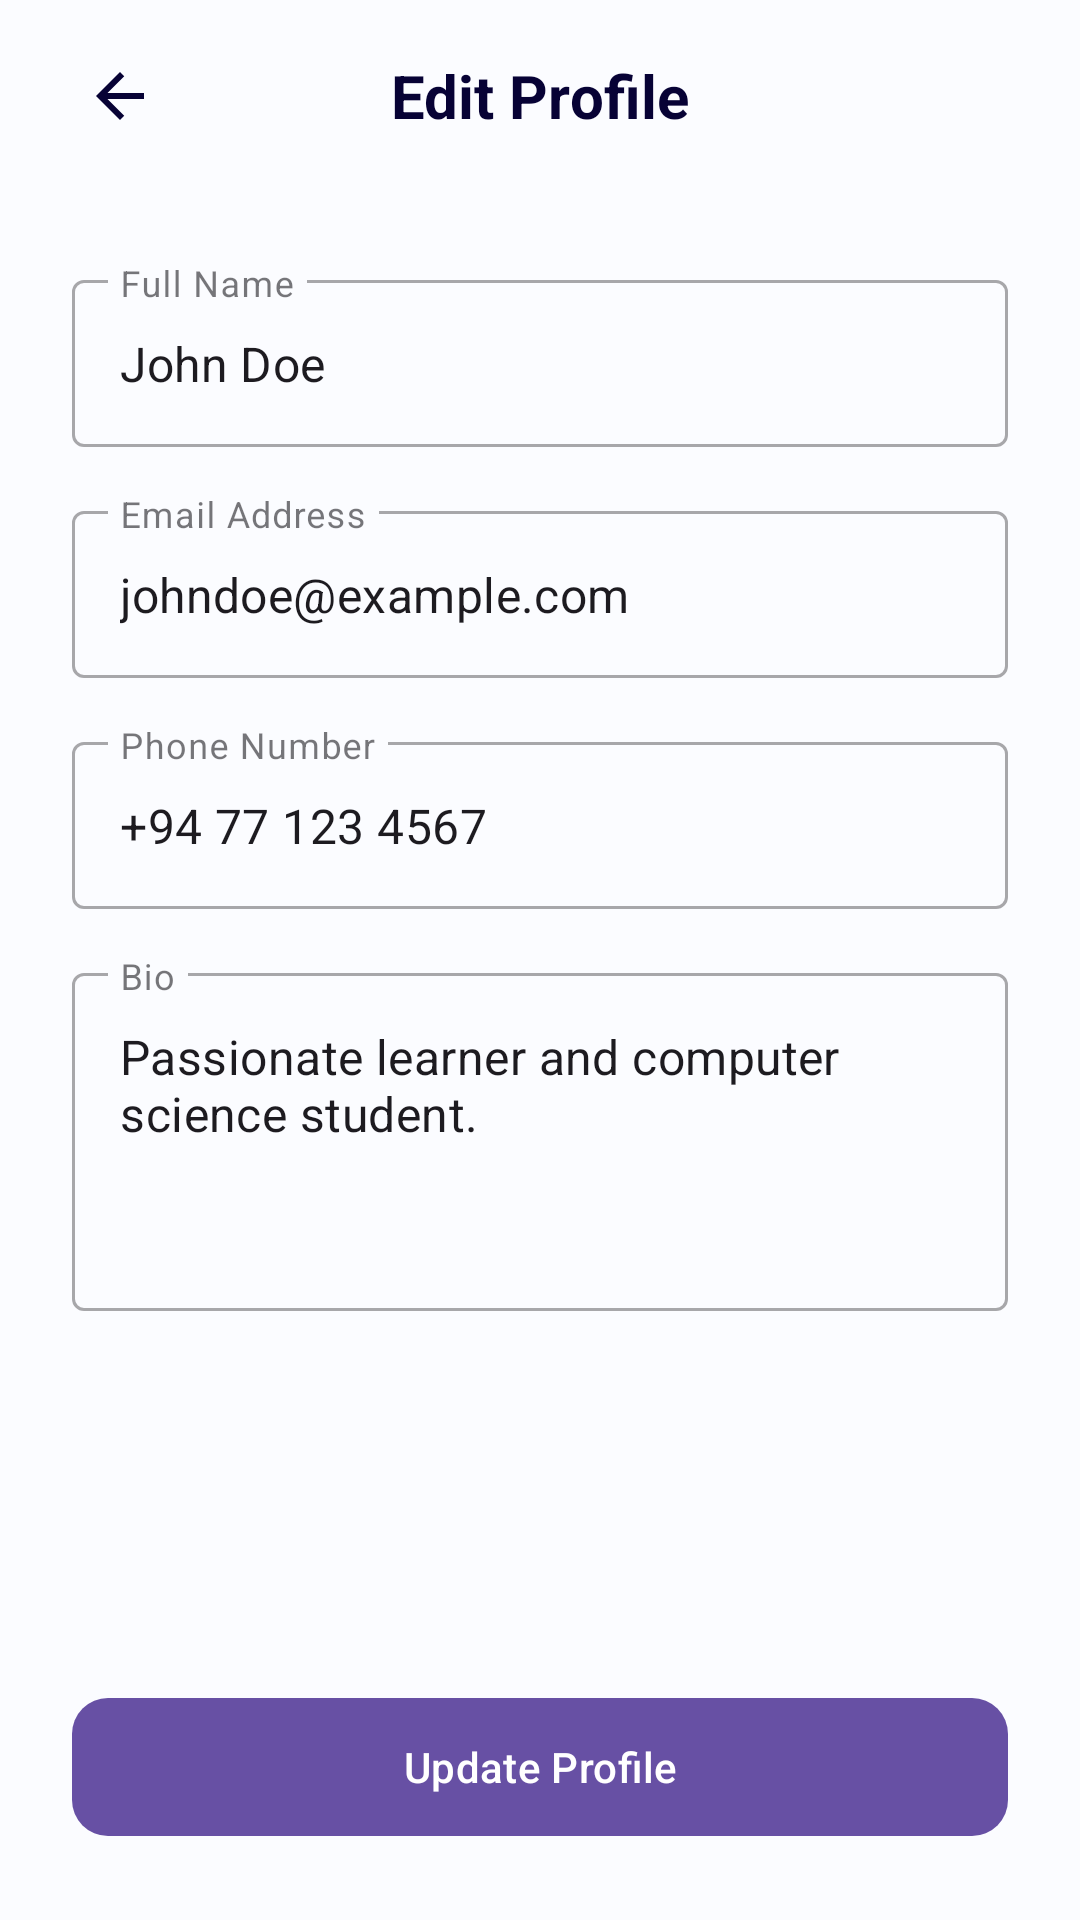

Icon bounding boxes for this 1080*1920 phone screenshot, format [x1=x1, y1=y1, x2=x2, y2=y2]:
arrow back: [x1=96, y1=72, x2=144, y2=120]
